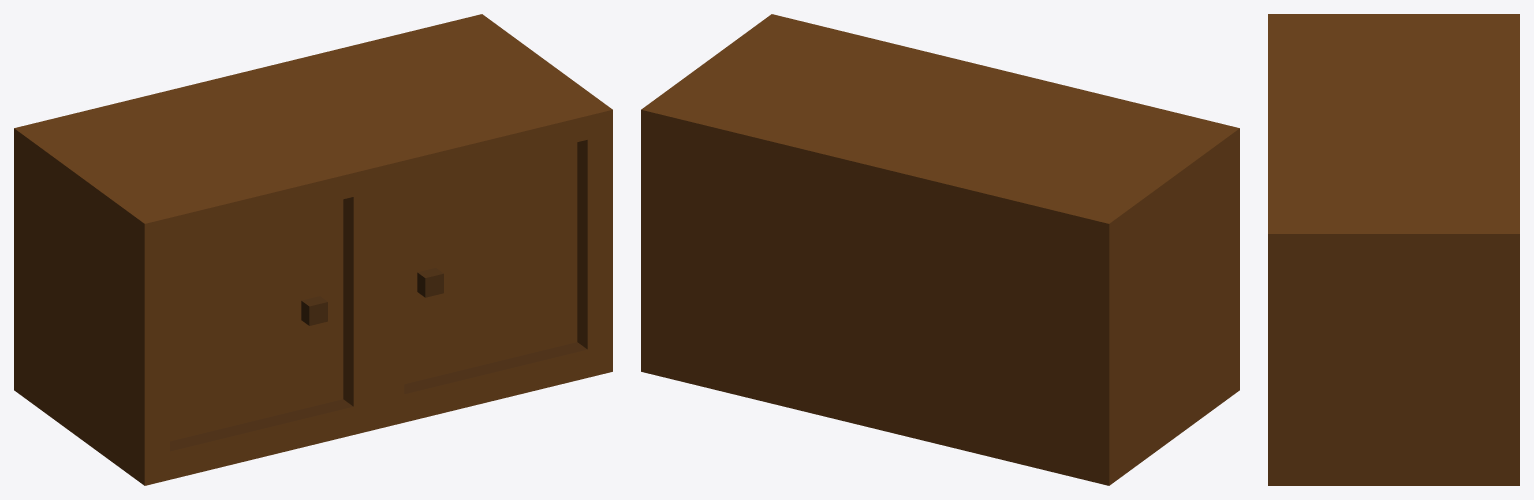
File: Cabinet_wall.fbx
3 views of the same model, side by side, from view 1: azimuth 30°, elevation 25°; view 2: azimuth 150°, elevation 25°; view 3: azimuth 270°, elevation 25° (orthographic). The views are drawn at different scales.
Parts seen in each view (by area): view 1: polySurface44; view 2: polySurface44; view 3: polySurface44.
Boxes of the visible parts, x1=… form: polySurface44: x1=14, y1=14, x2=612, y2=485; polySurface44: x1=641, y1=14, x2=1239, y2=485; polySurface44: x1=1268, y1=14, x2=1519, y2=485.
Bounding box in the file's own units: 288 × 154 × 139.
